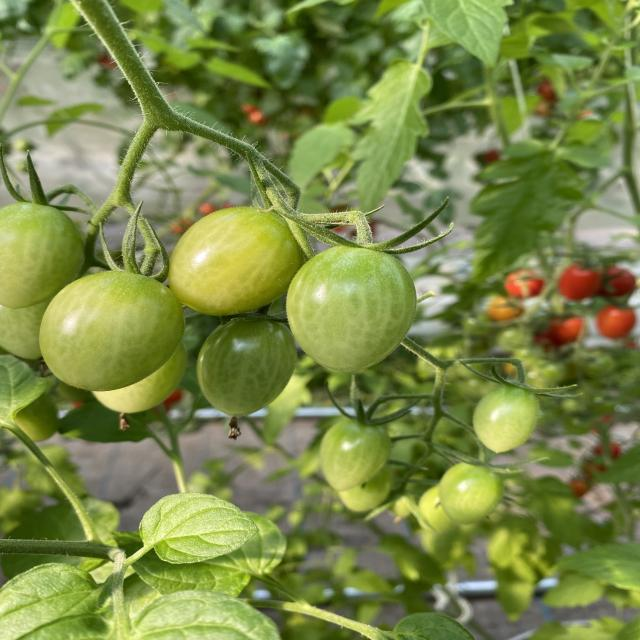yesil: (6, 189, 430, 433)
